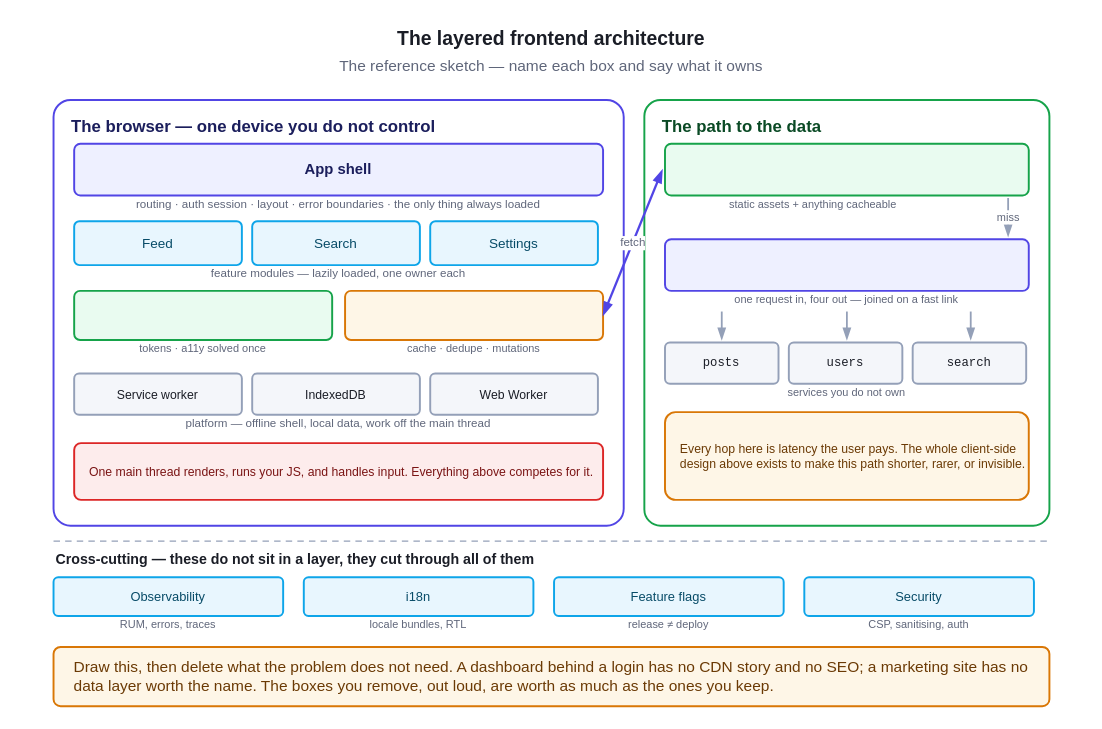
Image size: 1102x729. Some labels were removed from this diagram. Each missing label, with the centre of its shape:
"BFF" belongs at (846,264).
"CDN edge" belongs at (846,169).
"Data layer" belongs at (473,314).
"Design system" belongs at (203,314).
